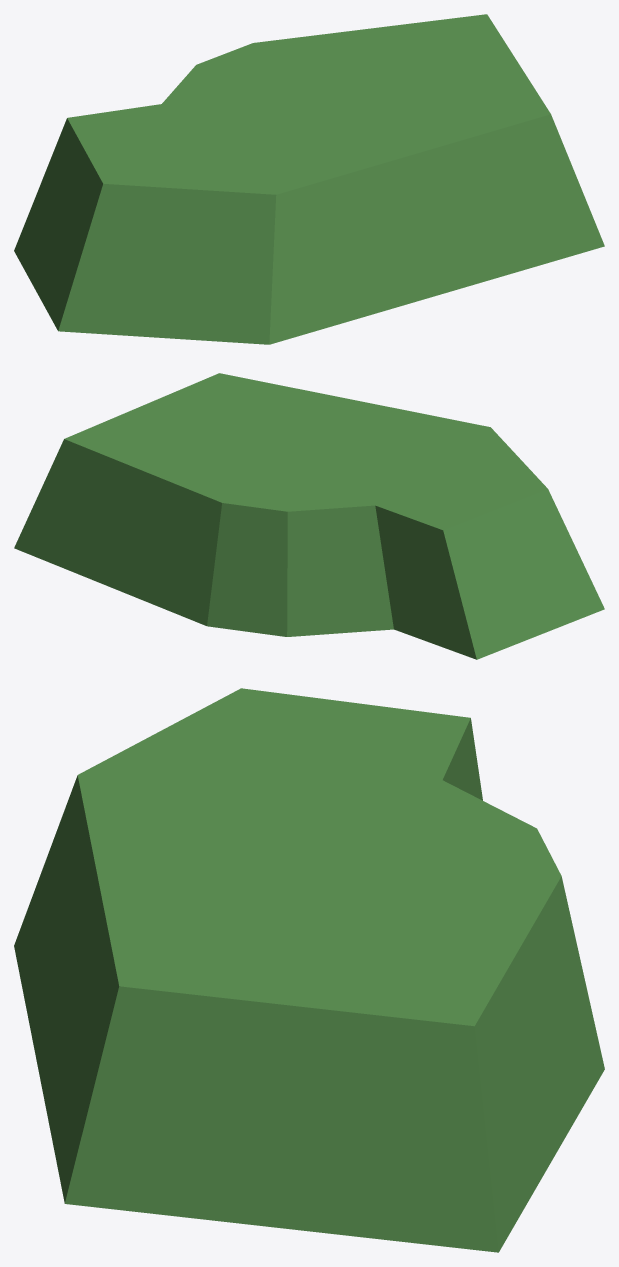
The model's file is grass_ledge_1.fbx.
3 renders of one model, top to bottom at view 1: azimuth 30°, elevation 25°; view 2: azimuth 150°, elevation 25°; view 3: azimuth 270°, elevation 25°, orthographic. The views are drawn at different scales.
Visible parts, largest first — view 1: BezierCurve; view 2: BezierCurve; view 3: BezierCurve.
Part boxes in pixels (box(x1,y1,x2,y2)): BezierCurve: box(14, 14, 604, 344); BezierCurve: box(14, 373, 604, 659); BezierCurve: box(14, 688, 604, 1252).
Size of the model in its own units: 317 by 68.6 by 192.
